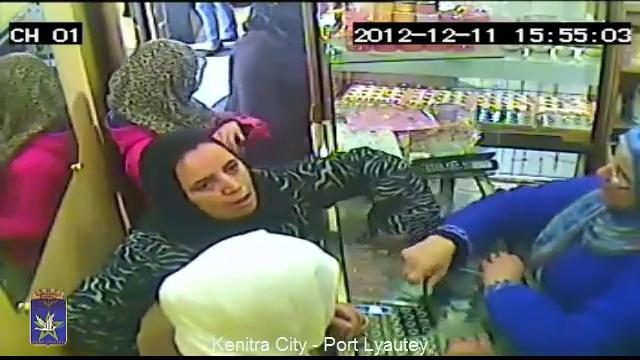Regular: (466, 78, 640, 360), (139, 227, 407, 360), (160, 113, 291, 235), (112, 36, 221, 174), (228, 0, 314, 108)
